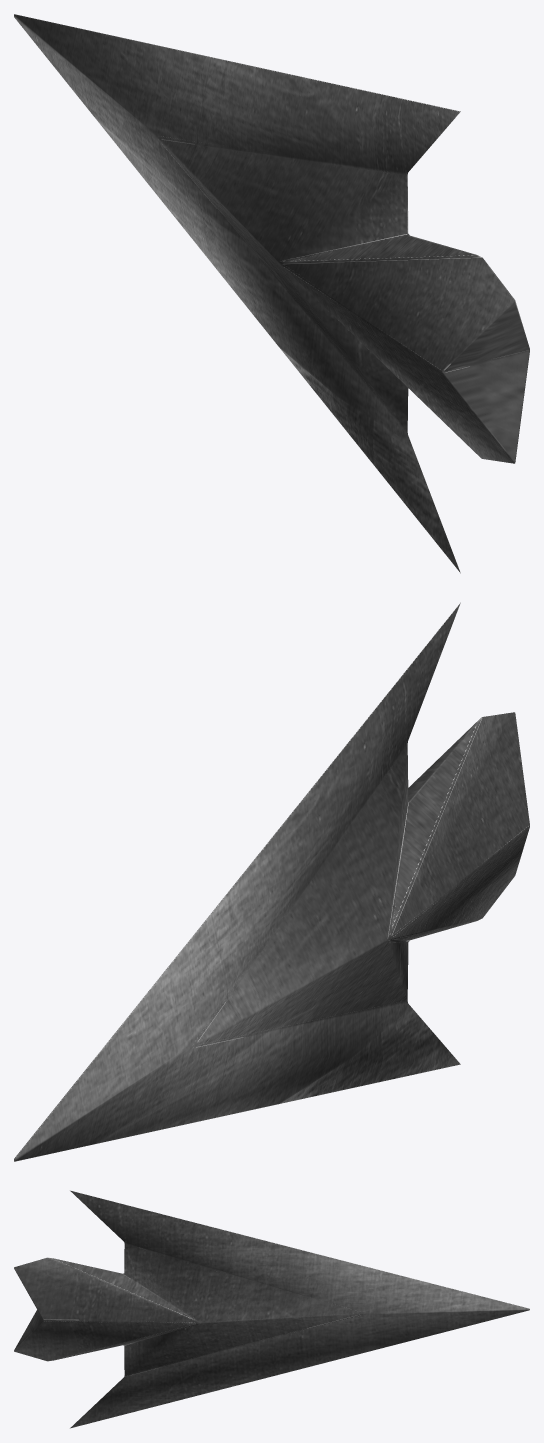
The model's file is ArrowTip.fbx.
The picture shows the model from 3 angles, top to bottom: view 1: azimuth 30°, elevation 25°; view 2: azimuth 150°, elevation 25°; view 3: azimuth 270°, elevation 25°; orthographic projection. The views are drawn at different scales.
Visible parts, largest first — view 1: Cube; view 2: Cube; view 3: Cube.
Boxes of the visible parts, box(x1,y1,x2,y2) form: Cube: box(14, 14, 529, 573); Cube: box(14, 602, 529, 1161); Cube: box(14, 1190, 529, 1428).
Size of the model in its own units: 16.96 by 68.66 by 135.
